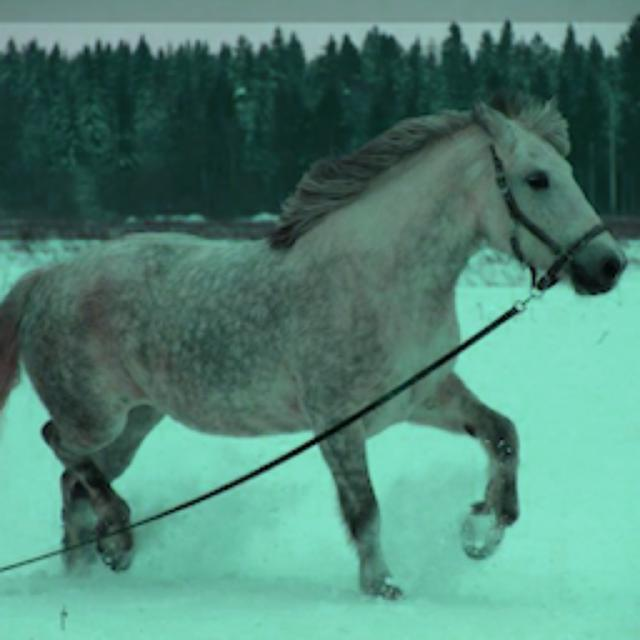Horse: (2, 87, 632, 605)
